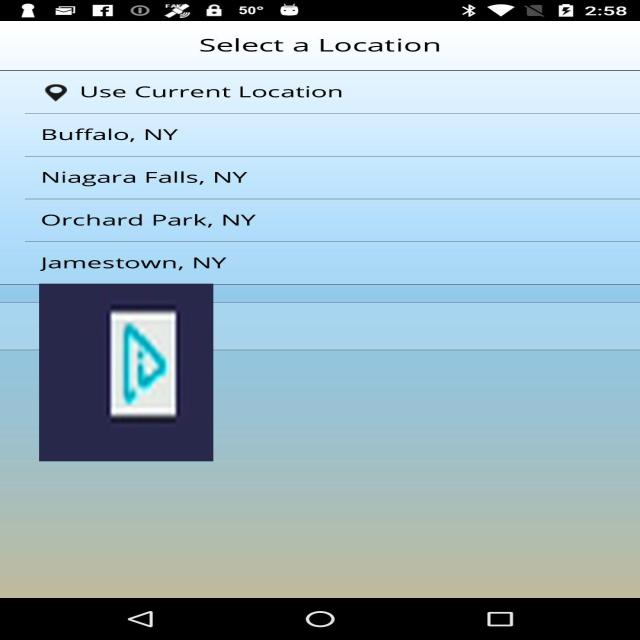sneaking: (39, 284, 213, 461)
